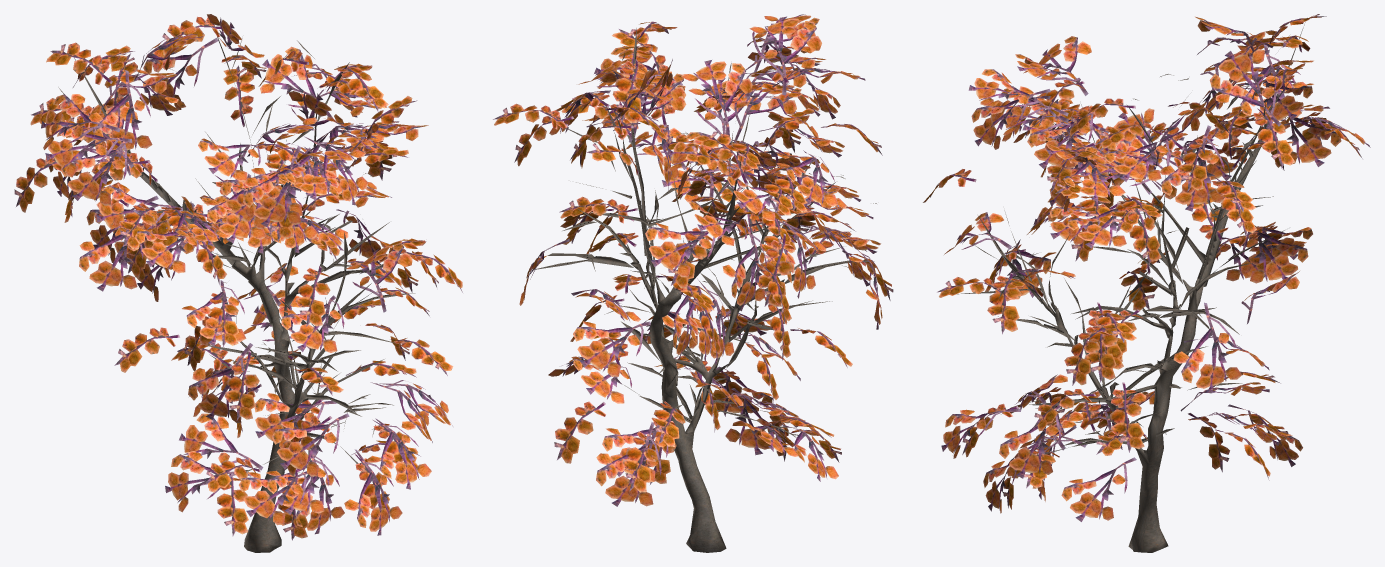
Rendered from tree_gold.glb.
The picture shows the model from 3 angles, left to right: view 1: azimuth 30°, elevation 25°; view 2: azimuth 150°, elevation 25°; view 3: azimuth 270°, elevation 25°; orthographic projection. The views are drawn at different scales.
Parts seen in each view (by area): view 1: Broadleaf Dense Tree Adult; view 2: Broadleaf Dense Tree Adult; view 3: Broadleaf Dense Tree Adult.
Boxes of the visible parts, x1,y1,x2,y2 form: Broadleaf Dense Tree Adult: (14, 14, 462, 552); Broadleaf Dense Tree Adult: (493, 14, 893, 552); Broadleaf Dense Tree Adult: (923, 14, 1370, 552).
Bounding box in the file's own units: 4.67 × 6.47 × 5.18.
Materials: 2 (2 with a texture image).
